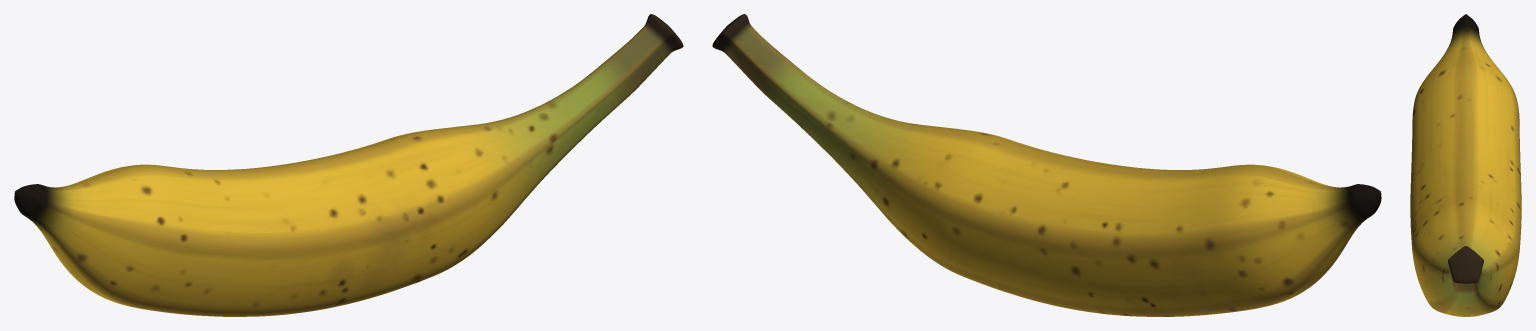
The model's file is banane.min.glb.
3 views of the same model, side by side, from view 1: azimuth 30°, elevation 25°; view 2: azimuth 150°, elevation 25°; view 3: azimuth 270°, elevation 25° (orthographic). The views are drawn at different scales.
Parts seen in each view (by area): view 1: Banane_Web; view 2: Banane_Web; view 3: Banane_Web.
Part boxes in pixels (bbox=[...]): Banane_Web: bbox=[14, 14, 683, 316]; Banane_Web: bbox=[712, 14, 1381, 316]; Banane_Web: bbox=[1410, 14, 1521, 316].
Size of the model in its own units: 0.192 by 0.0564 by 0.0348.
Materials: 1 (1 with a texture image).
